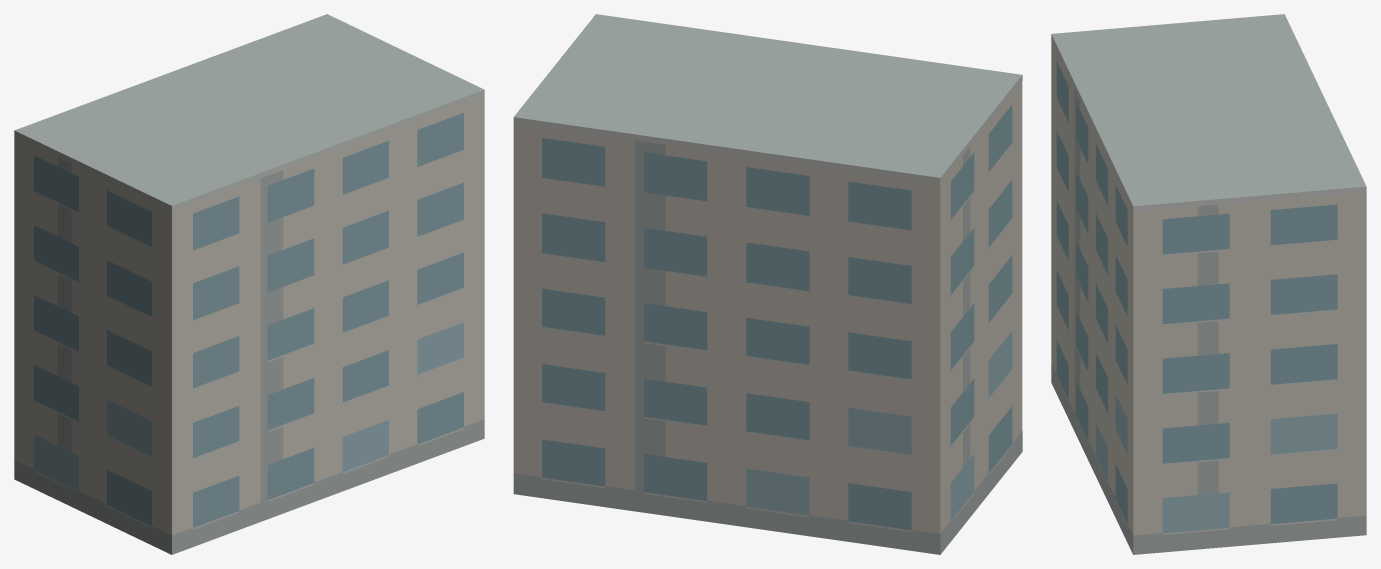
The model's file is residential-fd680c7e-a5f8-4df3-b9f3-3d98bec0a89b.glb.
The picture shows the model from 3 angles, left to right: view 1: azimuth 30°, elevation 25°; view 2: azimuth 150°, elevation 25°; view 3: azimuth 270°, elevation 25°; orthographic projection. The views are drawn at different scales.
Parts seen in each view (by area): view 1: residential-fd680c7e-a5f8-4df3-b9f3-3d98bec0a89b.tmp; view 2: residential-fd680c7e-a5f8-4df3-b9f3-3d98bec0a89b.tmp; view 3: residential-fd680c7e-a5f8-4df3-b9f3-3d98bec0a89b.tmp.
Part boxes in pixels (<box>): residential-fd680c7e-a5f8-4df3-b9f3-3d98bec0a89b.tmp: <box>14,14,484,554</box>; residential-fd680c7e-a5f8-4df3-b9f3-3d98bec0a89b.tmp: <box>513,14,1022,554</box>; residential-fd680c7e-a5f8-4df3-b9f3-3d98bec0a89b.tmp: <box>1051,14,1366,554</box>.
Size of the model in its own units: 18.05 by 15.25 by 12.51.
